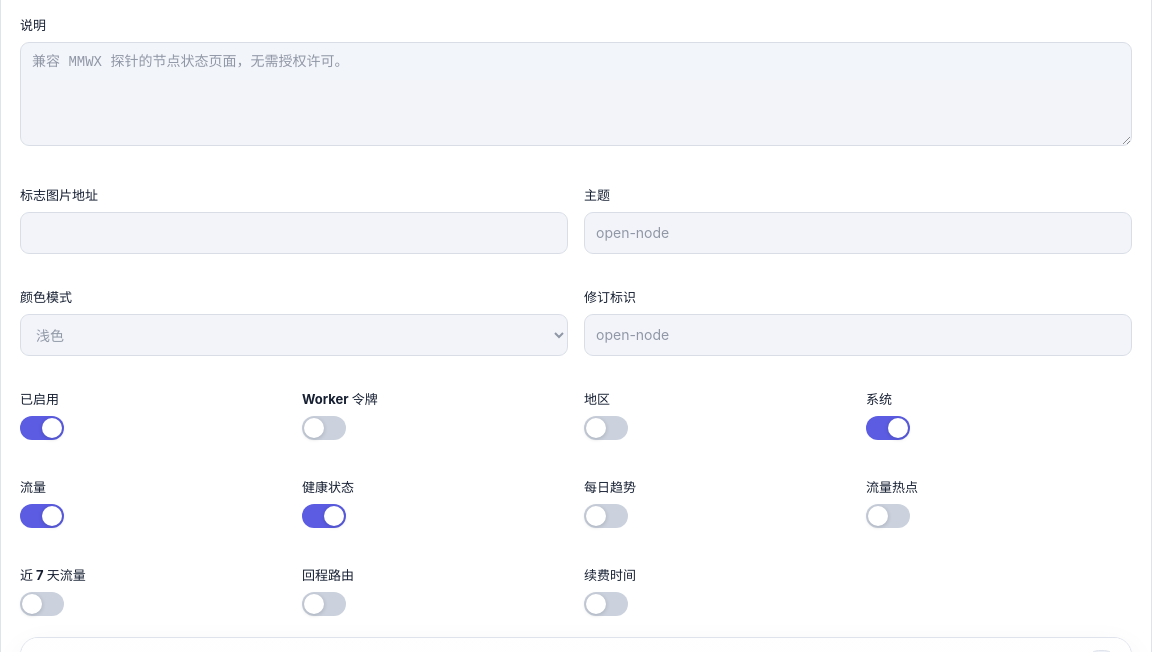
Test case: React probe administration › blocks settings writes until a successful load, including after a failed read
(page scrolled)
Submit the form named "保存设置"
(page scrolled)
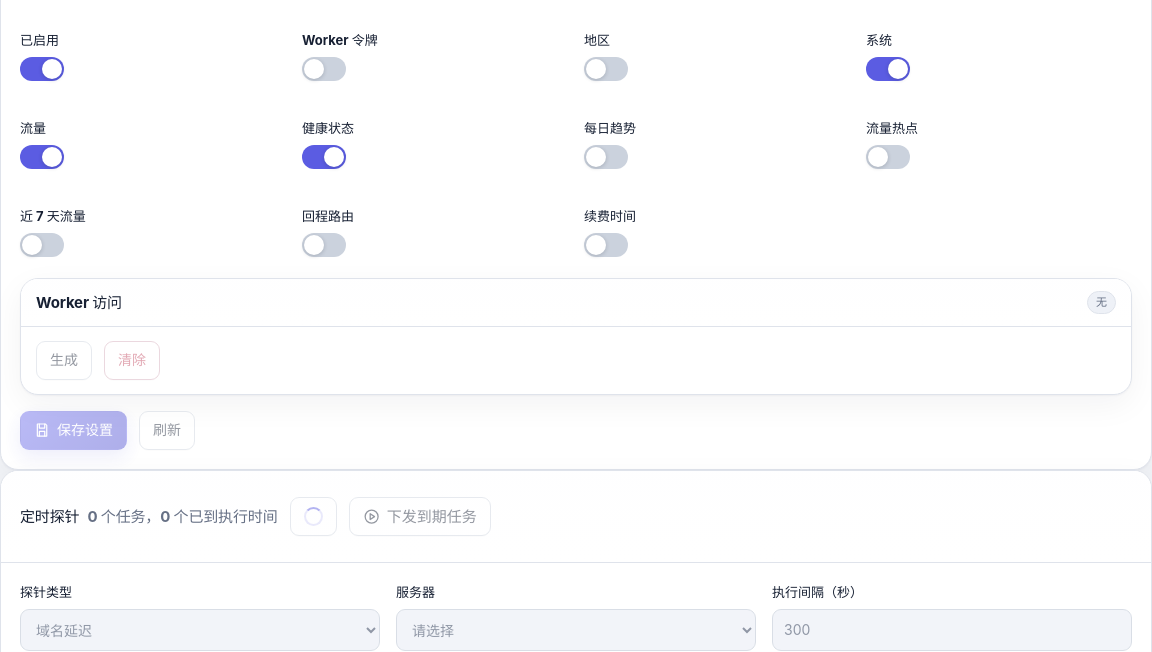
Click the button "生成".
click(64, 360)  # box x1=36 y1=341 x2=92 y2=380
(page scrolled)
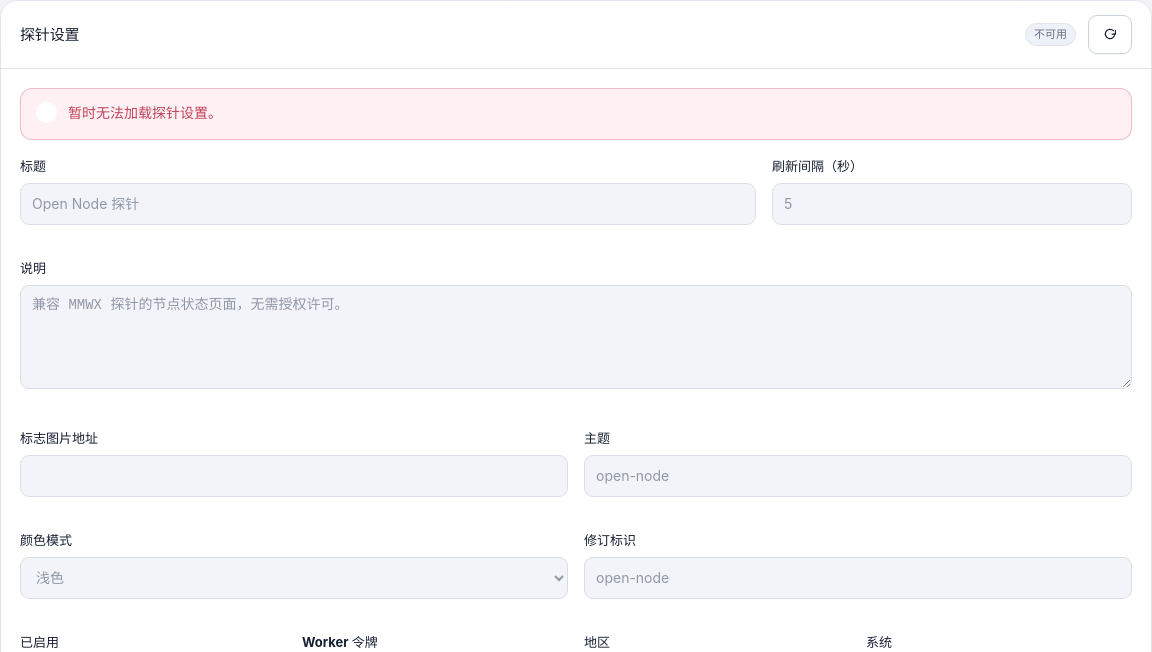
Now the text "暂时无法加载探针设置。" is shown, box x1=68 y1=104 x2=222 y2=121
Click the button named "刷新探针设置".
click(1110, 34)  # box x1=1088 y1=15 x2=1132 y2=54
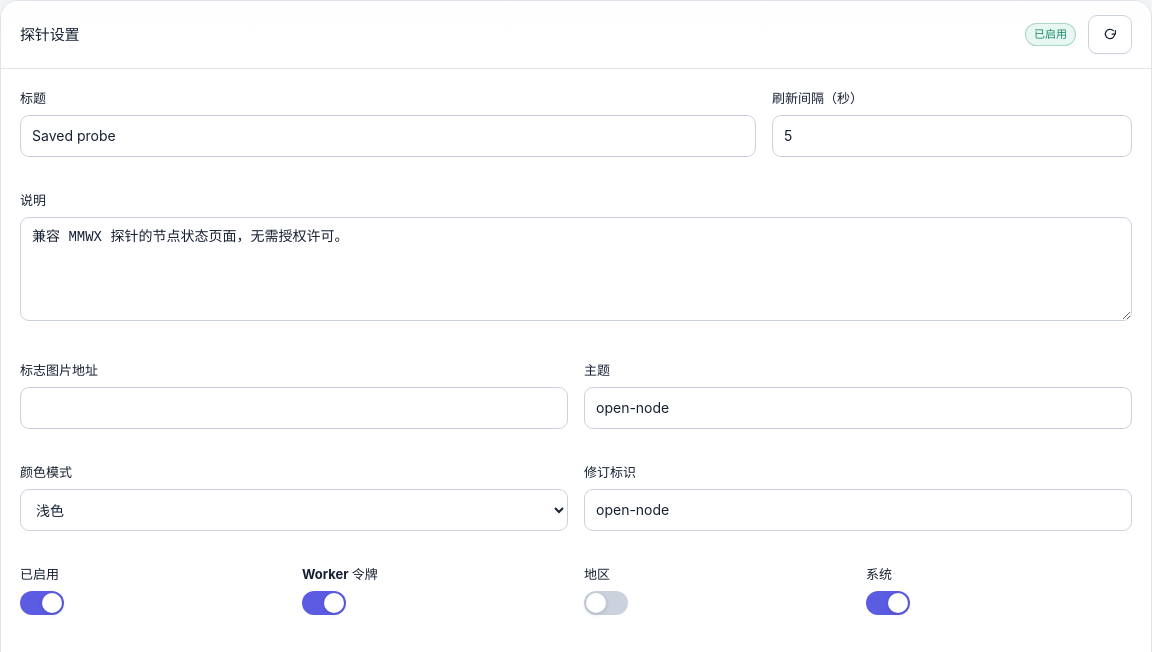
Now the field labelled "标题" holds "Saved probe", box x1=20 y1=115 x2=756 y2=157
